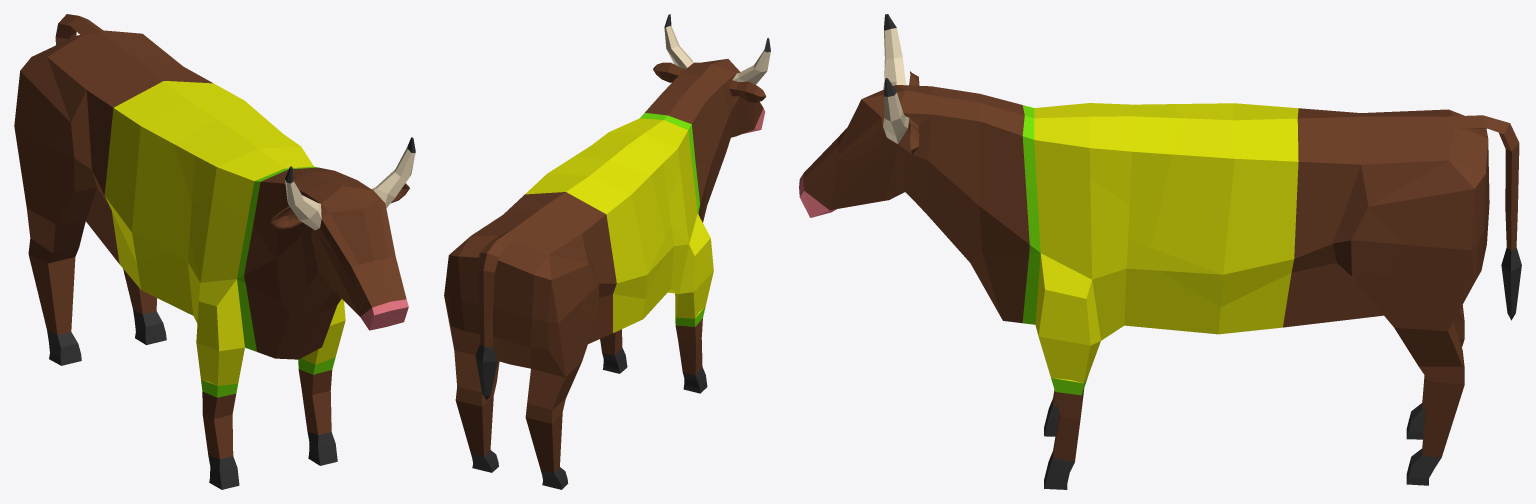
The model's file is Boi.fbx.
The picture shows the model from 3 angles, left to right: view 1: azimuth 30°, elevation 25°; view 2: azimuth 150°, elevation 25°; view 3: azimuth 270°, elevation 25°; orthographic projection. The views are drawn at different scales.
Visible parts, largest first — view 1: Boi; view 2: Boi; view 3: Boi.
Part boxes in pixels (x1=…): Boi: x1=14, y1=14, x2=415, y2=489; Boi: x1=444, y1=14, x2=770, y2=489; Boi: x1=799, y1=14, x2=1521, y2=489.
Bounding box in the file's own units: 225 × 577 × 917.
